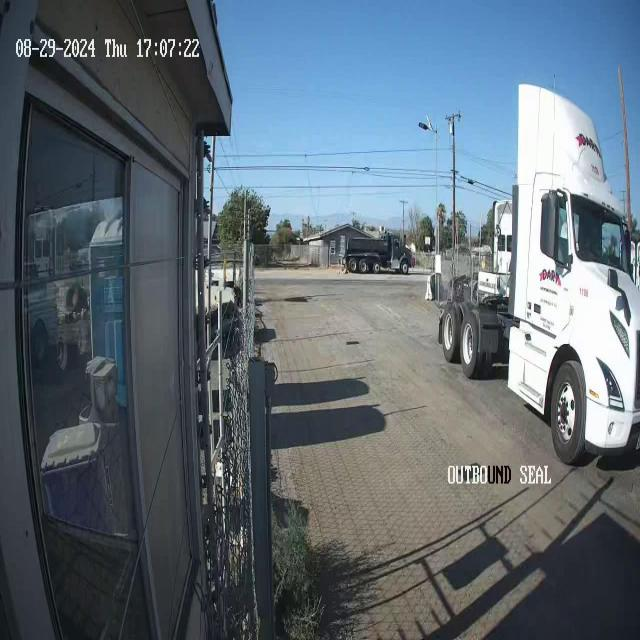TRUCK_IN: (434, 77, 639, 466)
